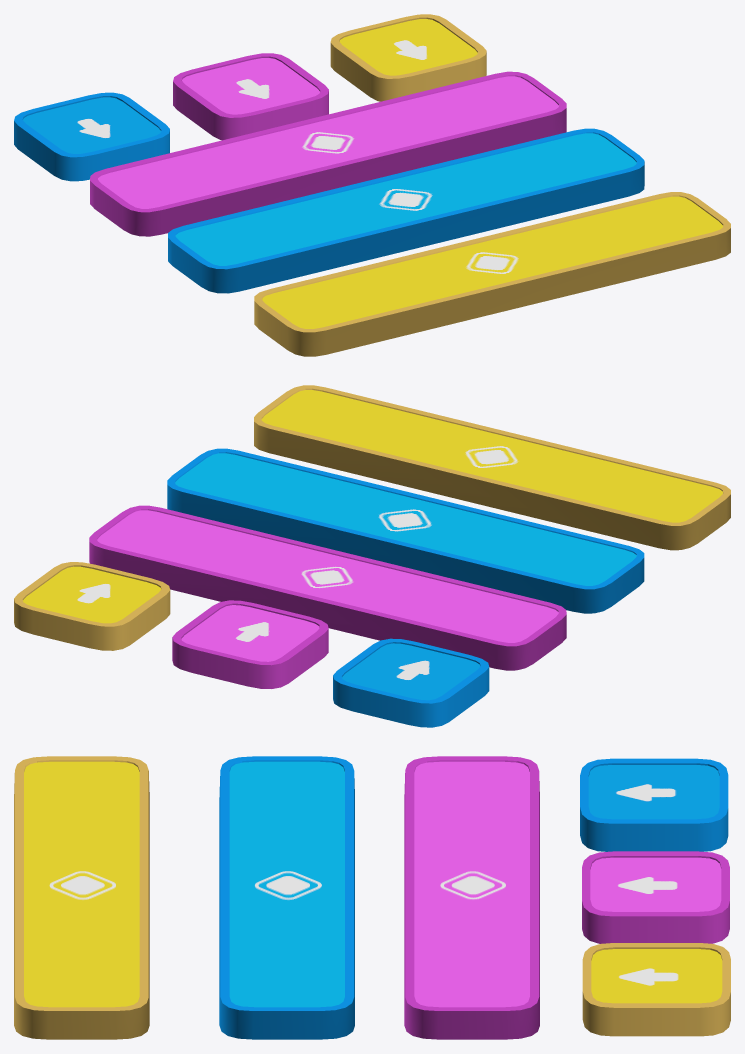
The model's file is fangkuai.fbx.
3 renders of one model, top to bottom at view 1: azimuth 30°, elevation 25°; view 2: azimuth 150°, elevation 25°; view 3: azimuth 270°, elevation 25°, orthographic. The views are drawn at different scales.
Visible parts, largest first — view 1: Box003Surface1 (×2), Box004 (×2), Box003Surface, Box003, polySurface2 (×3), polySurface1 (×3); view 2: Box003Surface1 (×2), Box004 (×2), Box003Surface, polySurface2 (×3), Box003, polySurface1 (×3); view 3: Box003Surface1 (×2), Box003Surface, polySurface1 (×3), Box004 (×2), polySurface2 (×3), Box003.
Boxes of the visible parts, <box> form: Box003Surface1 (×2): <box>98,76,722,328</box>; Box004 (×2): <box>90,71,730,356</box>; Box003Surface: <box>175,133,636,265</box>; Box003: <box>168,128,644,293</box>; polySurface2 (×3): <box>14,14,486,181</box>; polySurface1 (×3): <box>23,19,477,153</box>; Box003Surface1 (×2): <box>97,390,722,642</box>; Box004 (×2): <box>89,385,730,670</box>; Box003Surface: <box>175,453,636,585</box>; polySurface2 (×3): <box>14,562,489,727</box>; Box003: <box>167,448,644,613</box>; polySurface1 (×3): <box>23,566,480,700</box>; Box003Surface1 (×2): <box>24,761,529,1007</box>; Box003Surface: <box>229,761,344,1007</box>; polySurface1 (×3): <box>588,765,722,1003</box>; Box004 (×2): <box>14,756,539,1039</box>; polySurface2 (×3): <box>580,758,730,1036</box>; Box003: <box>219,756,354,1039</box>.
Bounding box in the file's own units: 1080 × 56.66 × 1285.
9 materials, 9 textured.
